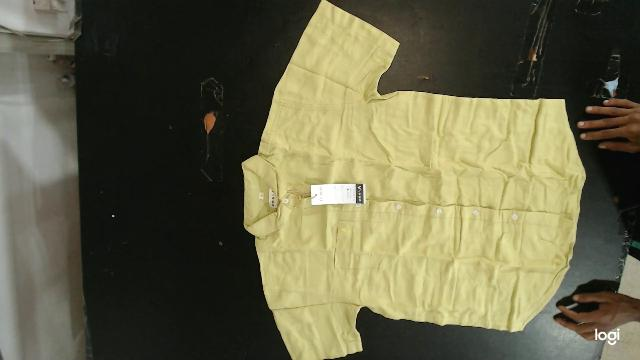new-garment: (242, 0, 585, 360)
